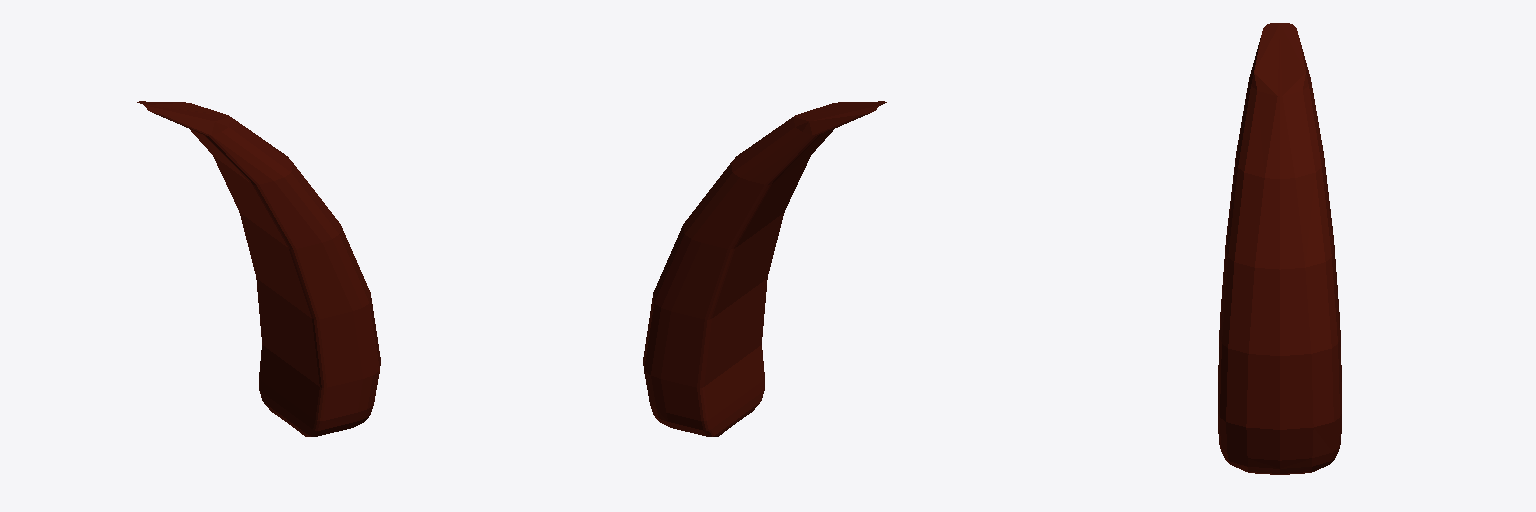
File: character_bear.obj
The picture shows the model from 3 angles: view 1: azimuth 30°, elevation 25°; view 2: azimuth 150°, elevation 25°; view 3: azimuth 270°, elevation 25°; orthographic projection.
Size of the model in its own units: 0.3802 by 0.5708 by 0.1812.